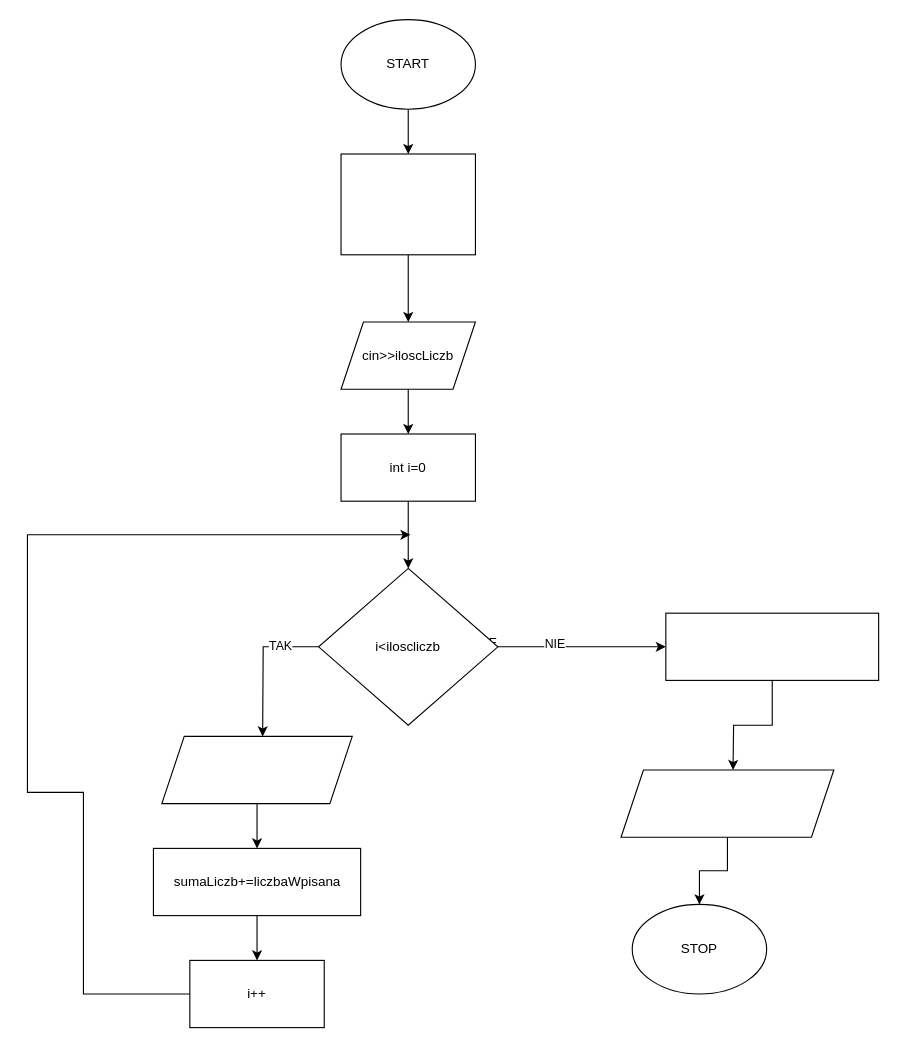
Some shapes in this 898 by 1047 pixel diagram are drawn without their labels. The shapes that lost their labels are listed below. From the top down, each one's centre as x and y in pixels, then its label:
[407,204]: Int iloscLiczb, sumaLiczb=0, liczbaWpisana float srednia=0
[772,646]: srednia=(float)suma/iloscLiczb
[256,769]: cin>>liczbaWpisana
[727,803]: cout<<"srednia to:"<<srednia
